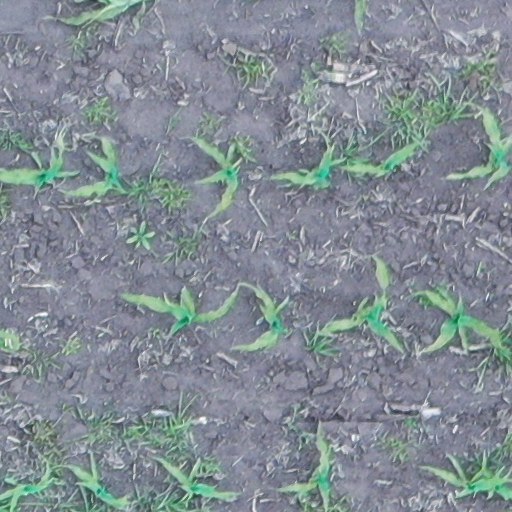planta: (308, 256, 403, 352), (120, 285, 239, 337), (422, 285, 505, 354), (63, 134, 144, 200), (341, 127, 428, 180), (233, 279, 291, 355), (154, 454, 240, 503), (190, 133, 242, 214), (270, 143, 349, 191)
